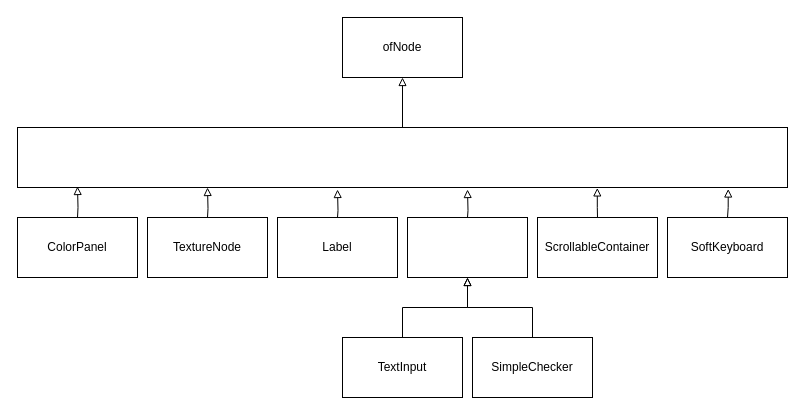
Some shapes in this 805 by 415 pixel diagram are drawn without their labels. The shapes that lost their labels are listed below. From the top down, each one's centre as x and y in pixels, then its label:
At point 402,157: "Node".
At point 467,247: "ModalElement".
